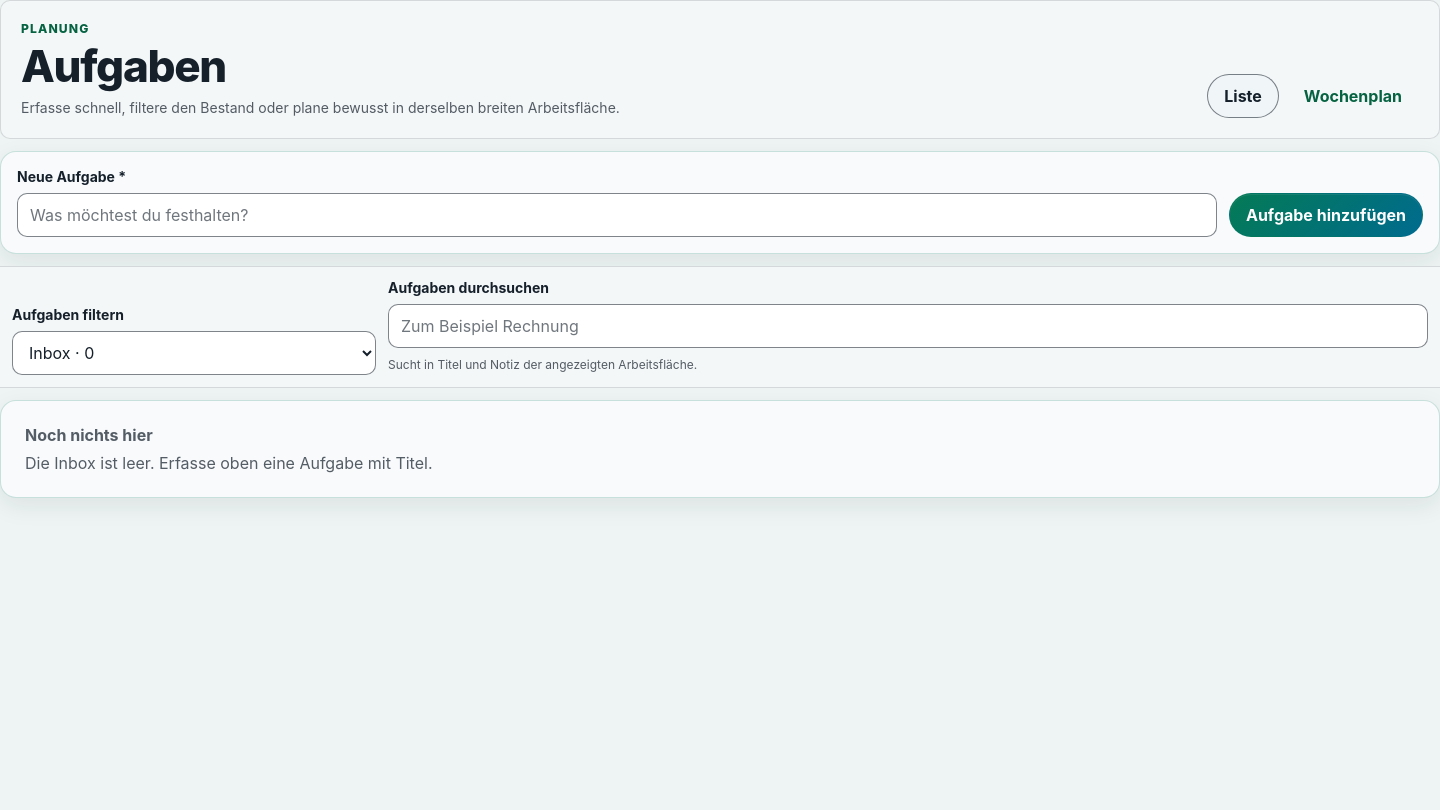
Test case: TasksPage › captures a title-only task directly into the inbox
Expected: the text "Die Inbox ist leer. Erfasse oben eine Aufgabe mit Titel." is shown, [25,453,432,473]
Expected: the dropdown labelled "Aufgaben filtern" shows "Inbox · 0", [12,331,376,375]
Type "Rechnung prüfen" into the field labelled "Neue Aufgabe".
click(617, 216); type("Rechnung prüfen")  # box [17,194,1217,238]
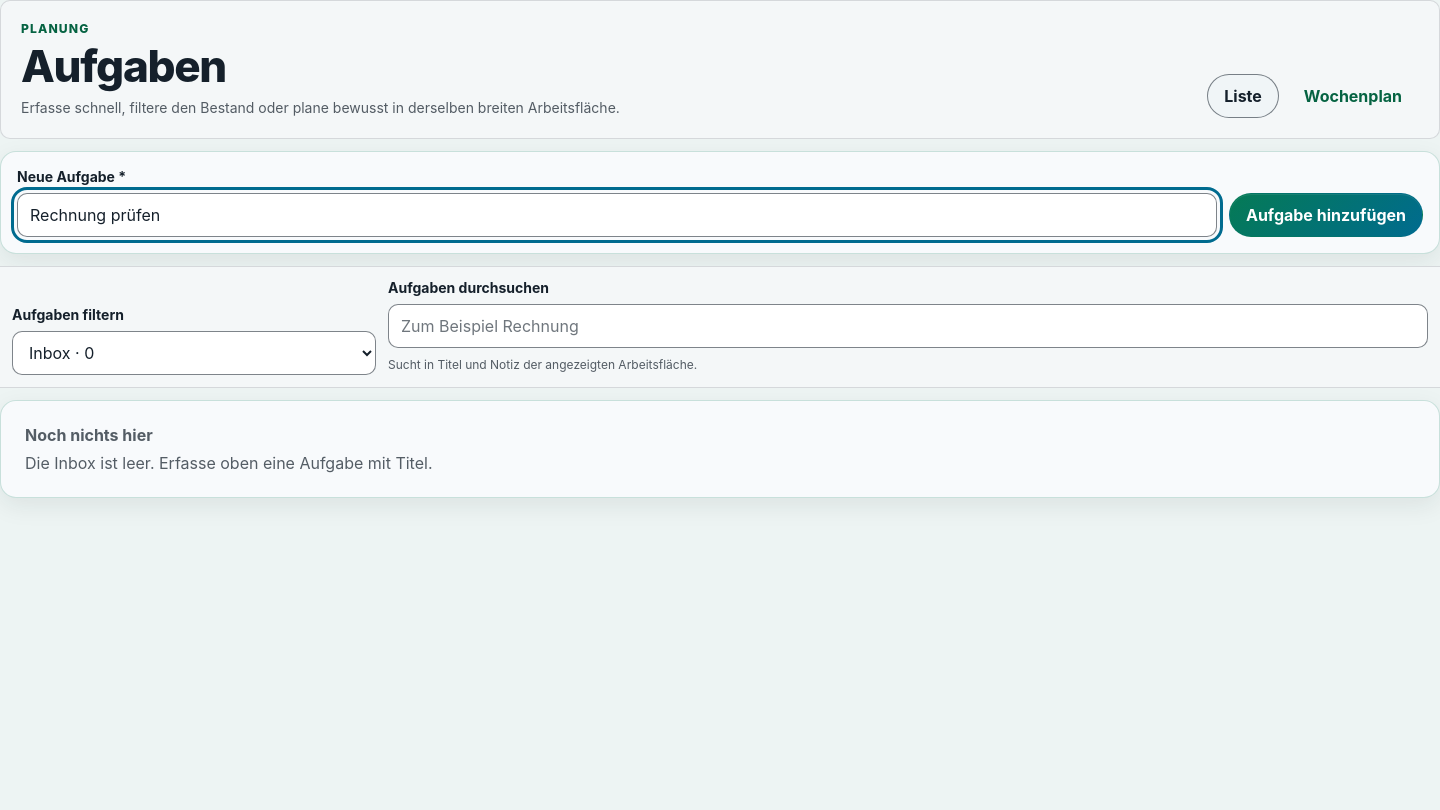
Click the button "Aufgabe hinzufügen".
click(1326, 216)  # box [1229,194,1423,238]
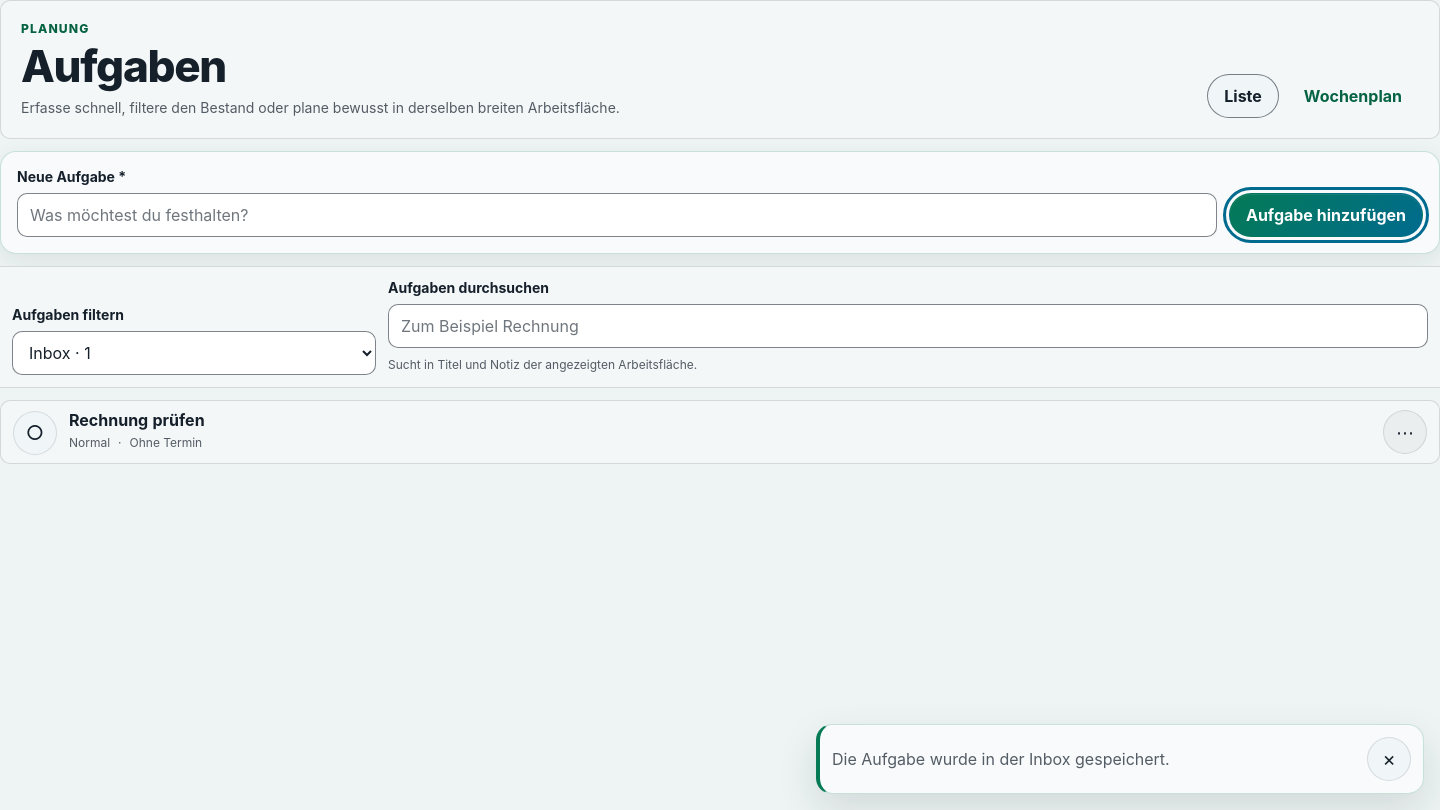
Now the heading "Rechnung prüfen" is shown, box [69,410,205,430]
